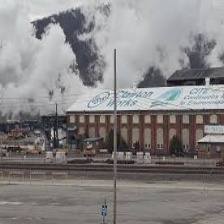smoke: (14, 24, 192, 88)
